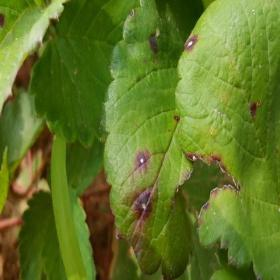Leaf Spot: (99, 0, 204, 279), (175, 0, 279, 279)
